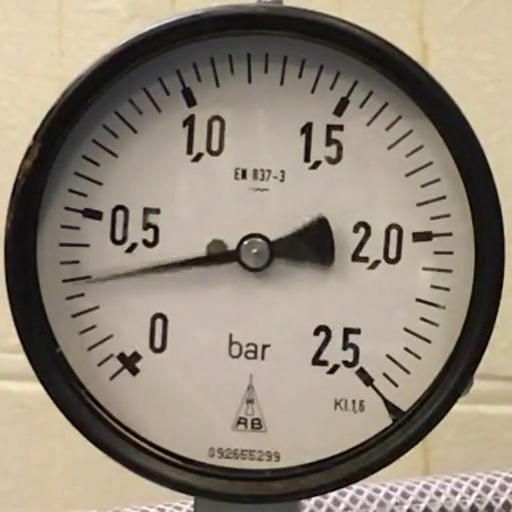base: (236, 233, 273, 272)
circle_plate: (36, 36, 470, 465)
maximum: (355, 365, 374, 387)
minimum: (116, 348, 142, 377)
number: (350, 220, 403, 270), (310, 323, 361, 374), (108, 204, 162, 252), (182, 112, 226, 163), (300, 121, 345, 169), (146, 310, 168, 356)
tip: (81, 277, 92, 287)
